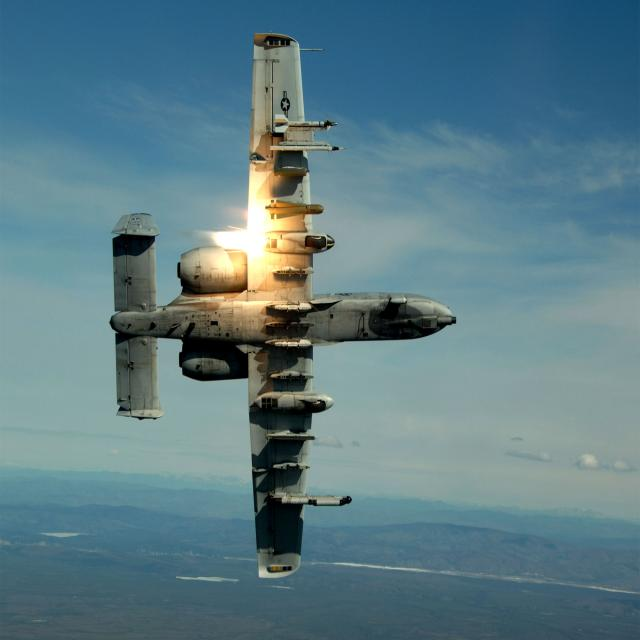MIL_Plane: (109, 31, 457, 579)
